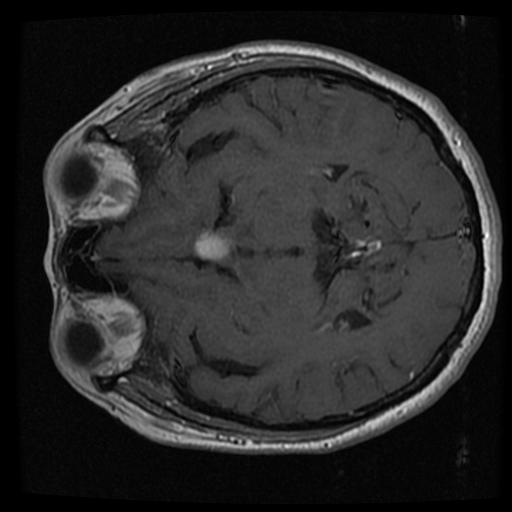pituitary tumour: (193, 229, 231, 262)
